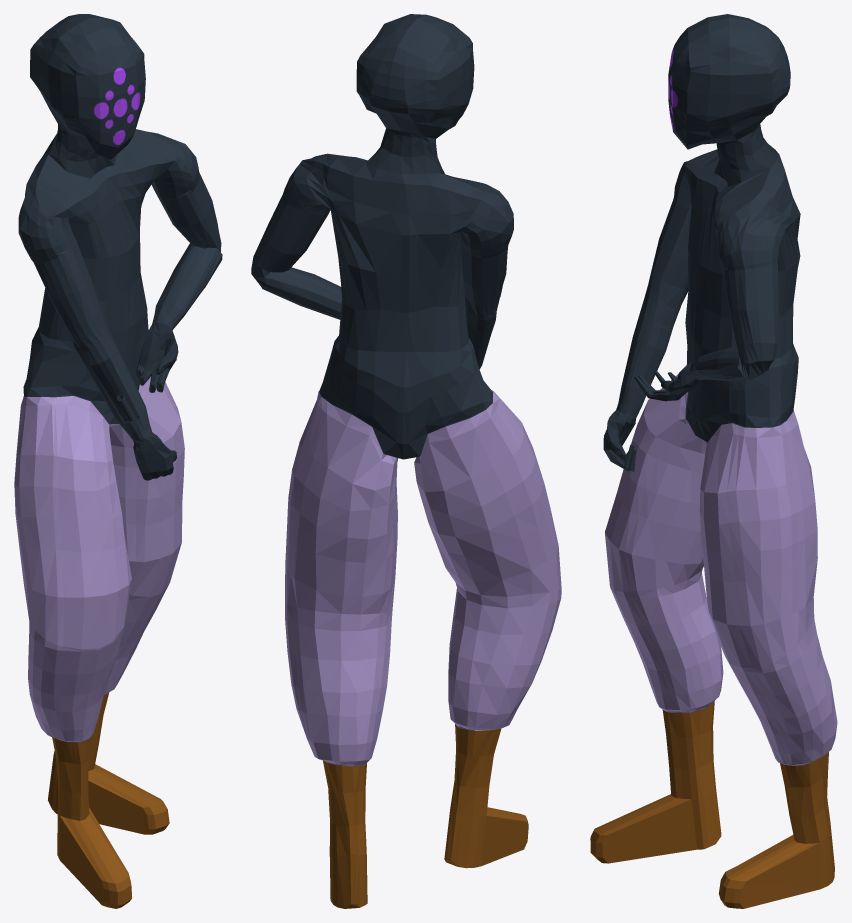
The model's file is Oracle_WF_000003.obj.
3 views of the same model, side by side, from view 1: azimuth 30°, elevation 25°; view 2: azimuth 150°, elevation 25°; view 3: azimuth 270°, elevation 25° (orthographic). The views are drawn at different scales.
Visible parts, largest first — view 1: Cube; view 2: Cube; view 3: Cube.
Part boxes in pixels (x1,y1,x2,y2): Cube: (14, 14, 222, 908); Cube: (251, 14, 561, 908); Cube: (590, 14, 837, 908).
Size of the model in its own units: 1.17 by 3.92 by 1.02.
